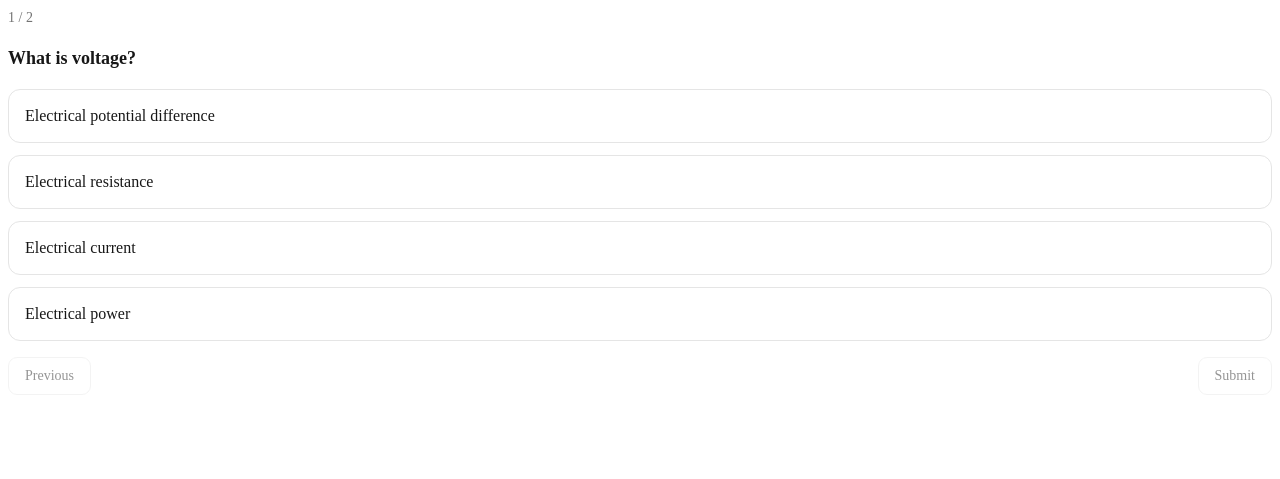
Test: Quiz › preserves submitted answers when returning to a previous question
The width and height of the screenshot is (1280, 479).
Click the button "Electrical potential difference".
click(120, 115)  # box [8, 89, 1272, 143]
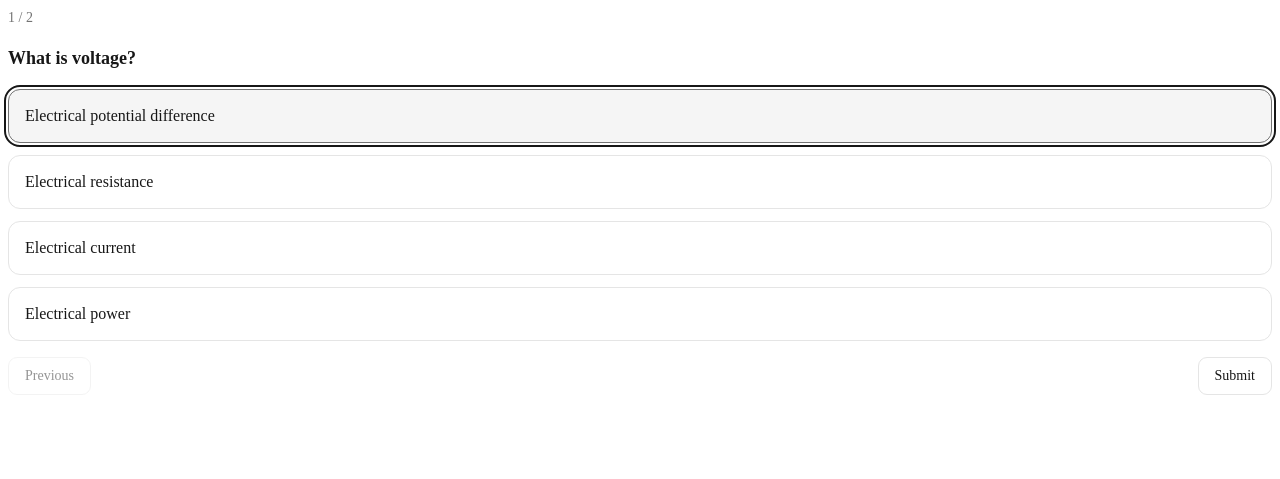
Click the button "Submit".
click(1235, 376)  # box [1198, 357, 1272, 395]
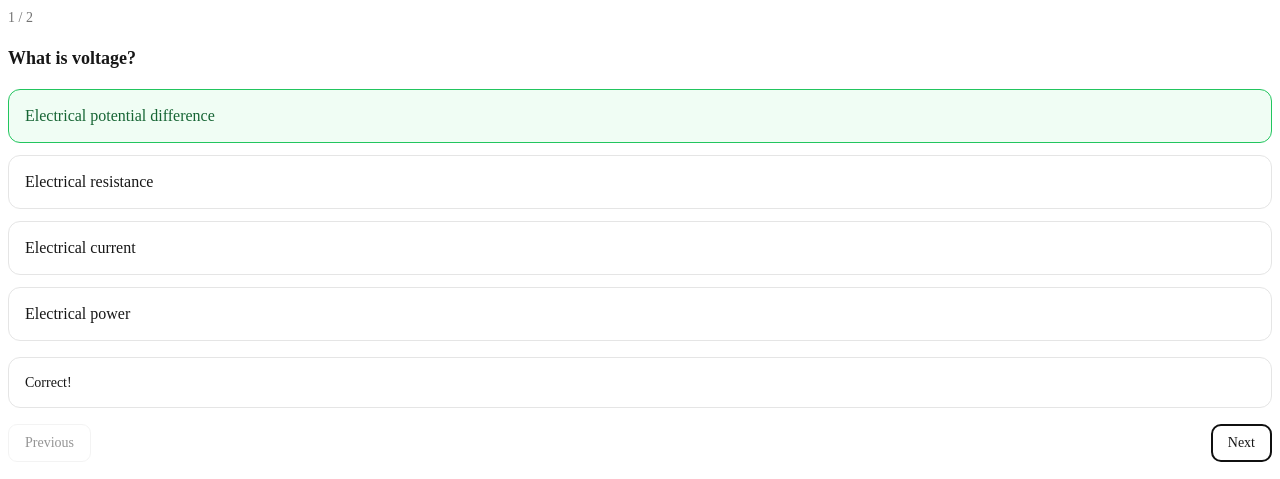
Check: the text "Correct!" is shown, box [8, 357, 1272, 408]
Click the button "Next".
click(1241, 443)  # box [1211, 424, 1272, 462]
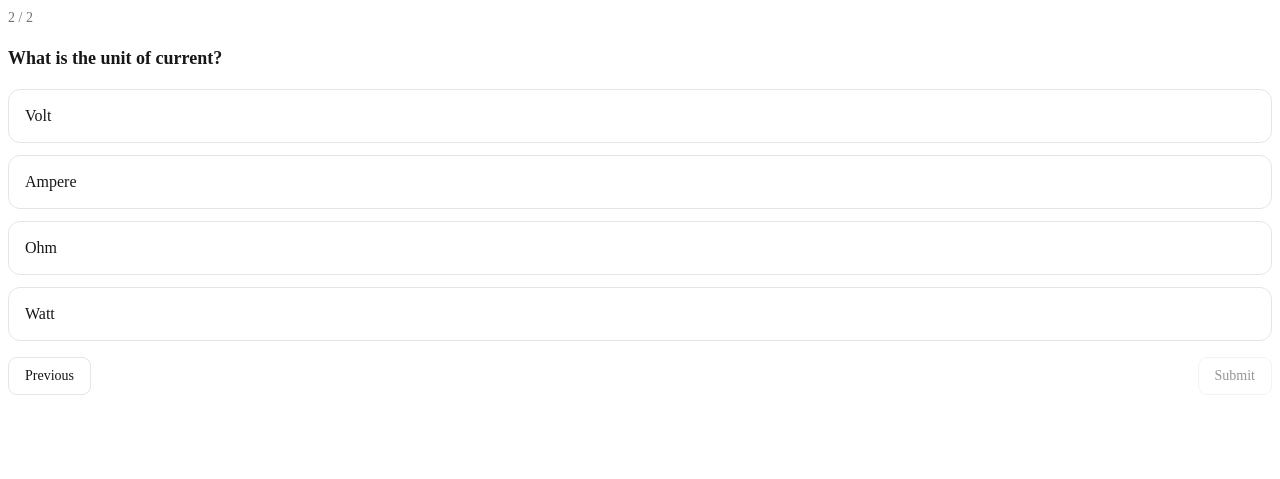
Click the button "Previous".
click(50, 376)  # box [8, 357, 91, 395]
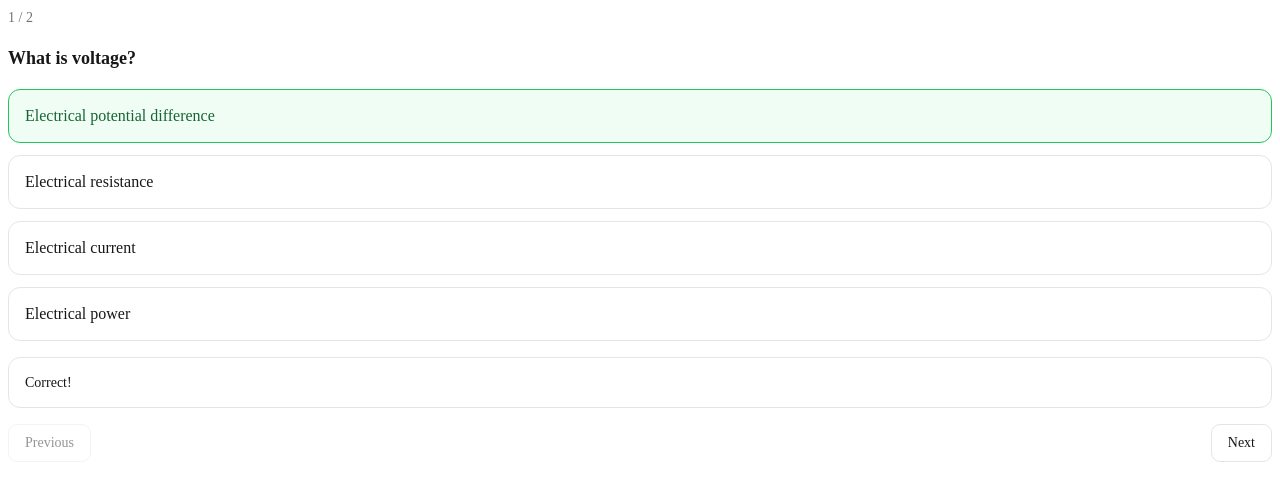
Check: the text "What is voltage?" is shown, box [8, 48, 136, 68]
Check: the text "Correct!" is shown, box [8, 357, 1272, 408]
